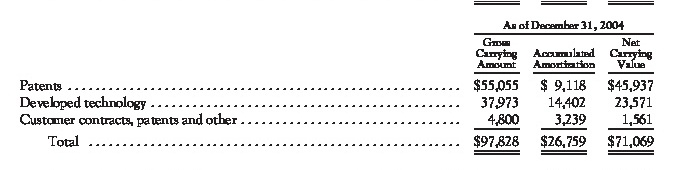table: (0, 0, 678, 170)
